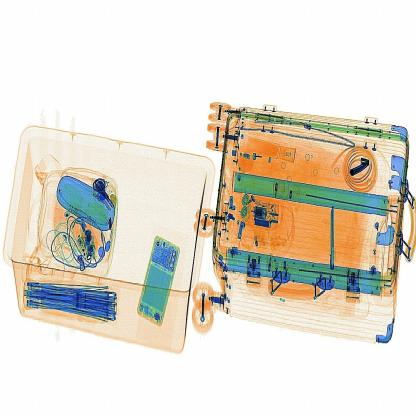pliers: (320, 195, 341, 276)
